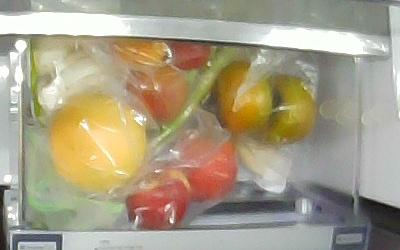apple_vinyl: (164, 131, 235, 202), (127, 166, 192, 227)
grapefruit_vinyl: (48, 97, 145, 188)
persimmon_vinyl: (213, 64, 271, 139), (262, 73, 318, 146)
prune_vinyl: (129, 63, 188, 123), (109, 40, 171, 70), (166, 40, 211, 71)
